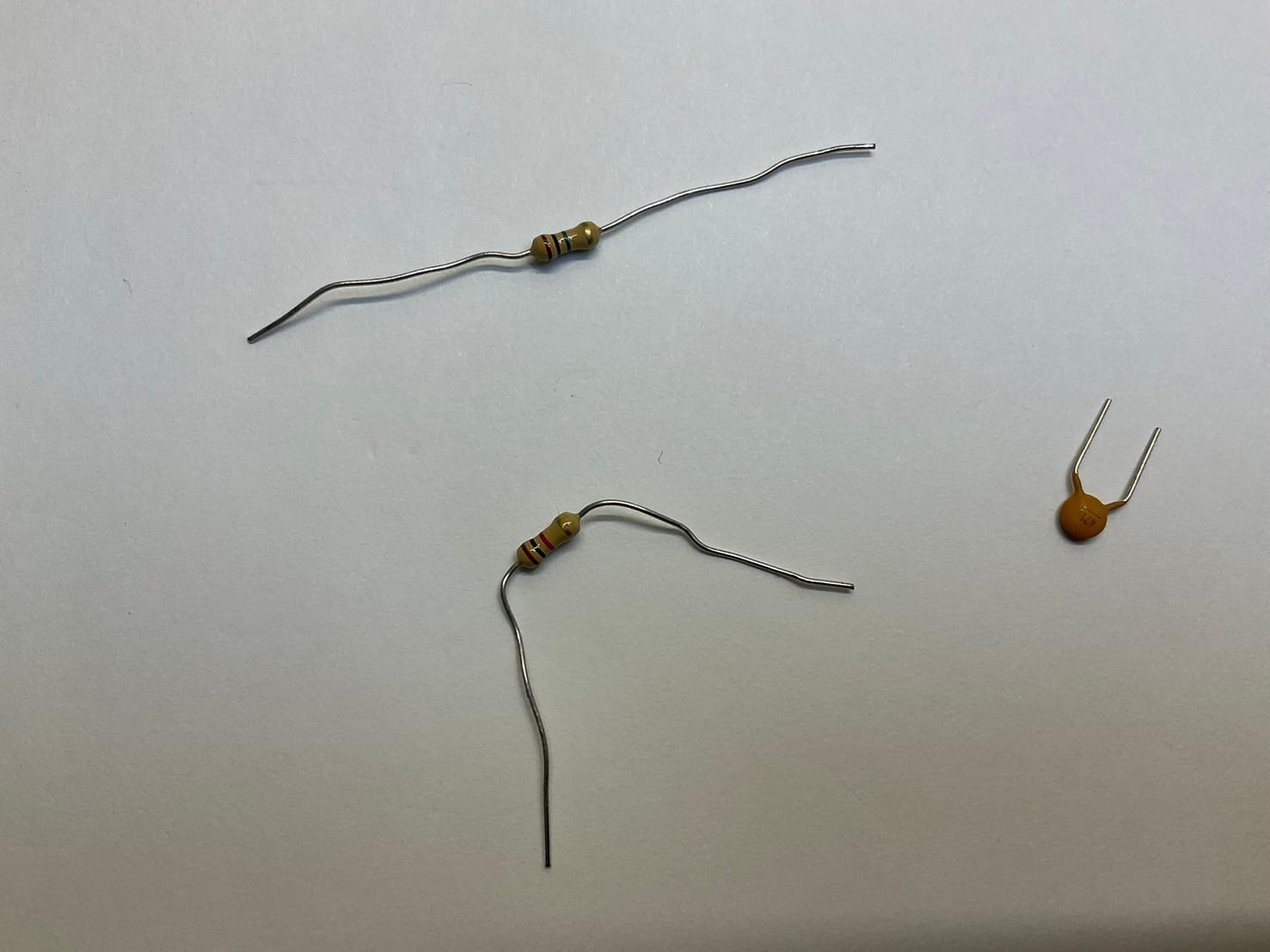resistor: (518, 510, 579, 573), (528, 218, 605, 264)
